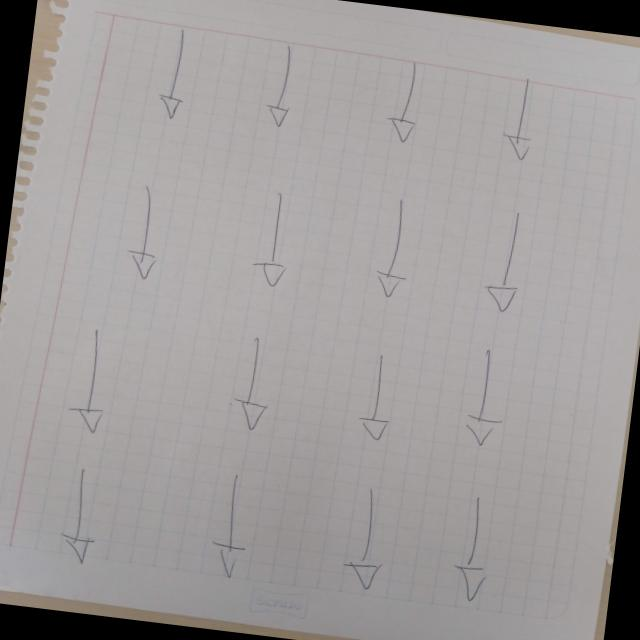arrow_line_down: (451, 342, 528, 454), (54, 464, 128, 576), (471, 200, 541, 318), (197, 472, 262, 586), (62, 325, 126, 439), (443, 501, 510, 609), (341, 484, 398, 597), (144, 22, 201, 127), (366, 195, 418, 308), (216, 341, 276, 438), (253, 38, 308, 136), (119, 185, 174, 282), (352, 355, 408, 448), (244, 193, 296, 289), (496, 78, 548, 164), (380, 59, 428, 152)
